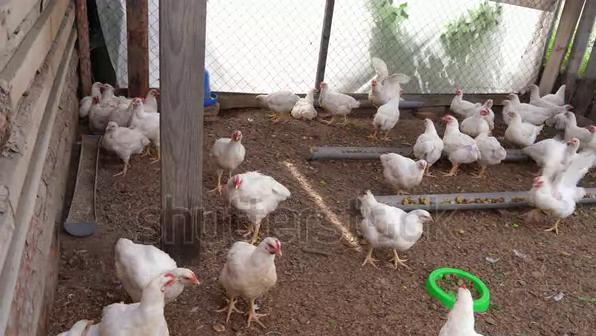Pollos: (116, 235, 200, 303), (360, 188, 432, 250), (219, 235, 282, 298), (226, 172, 291, 215), (532, 175, 582, 219), (441, 113, 479, 163), (377, 151, 428, 186), (249, 87, 300, 120), (103, 120, 146, 158), (370, 93, 404, 137), (317, 80, 357, 117), (529, 135, 581, 163), (212, 128, 246, 170), (413, 114, 443, 160), (506, 111, 540, 141), (450, 87, 481, 111)
